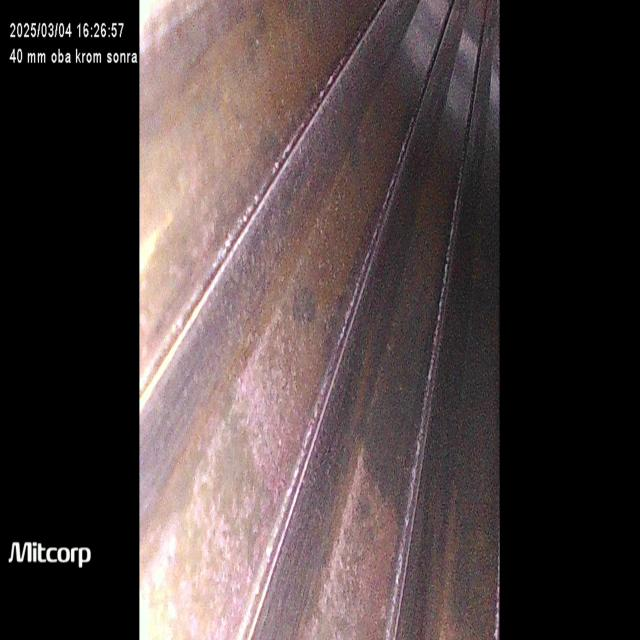hata_4.2: (197, 4, 283, 245), (190, 394, 280, 583), (331, 98, 406, 258)
hata_8.2: (284, 276, 326, 336)
